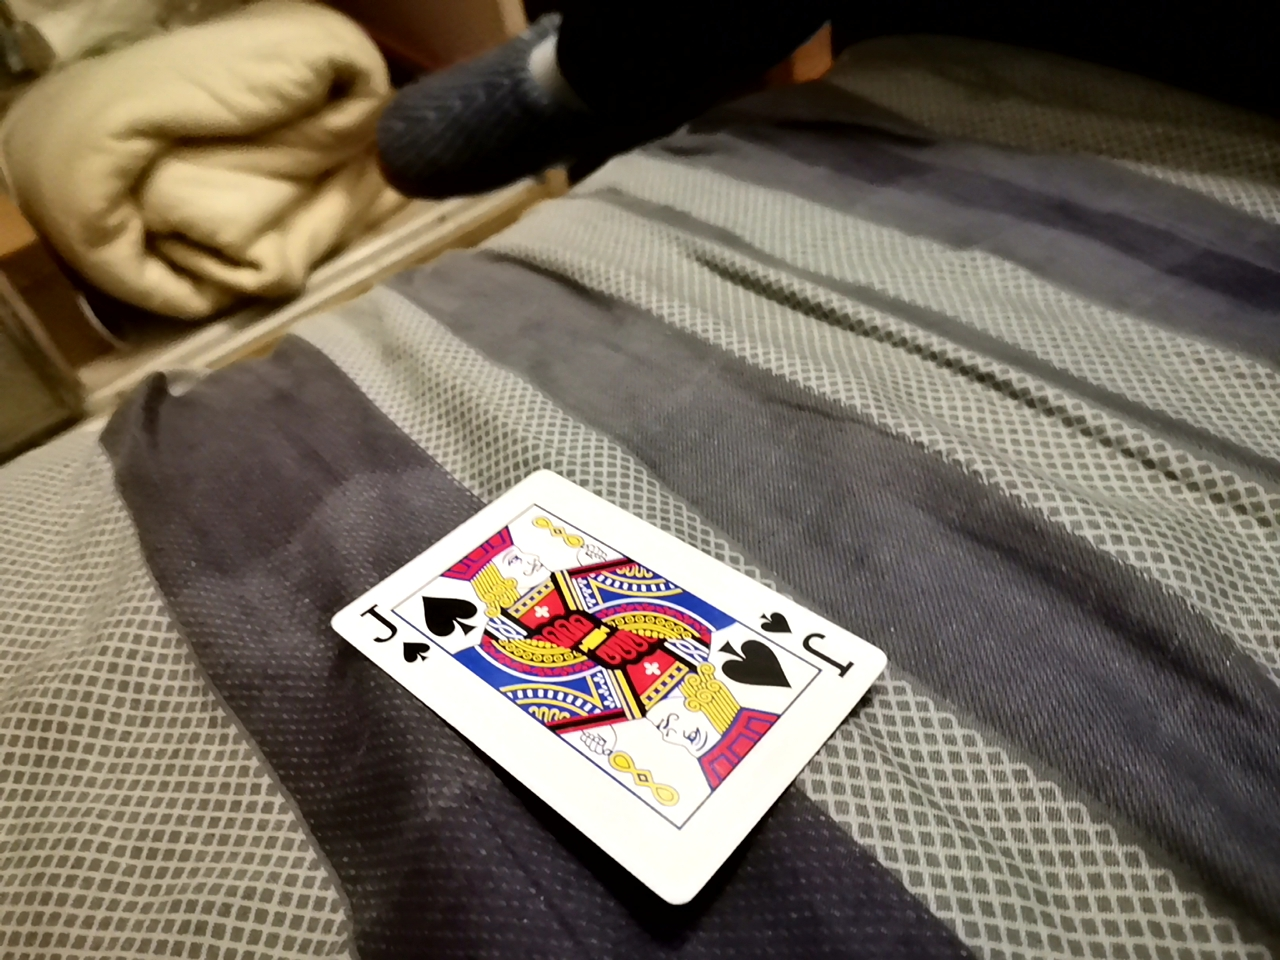ht j: (338, 462, 882, 925)
